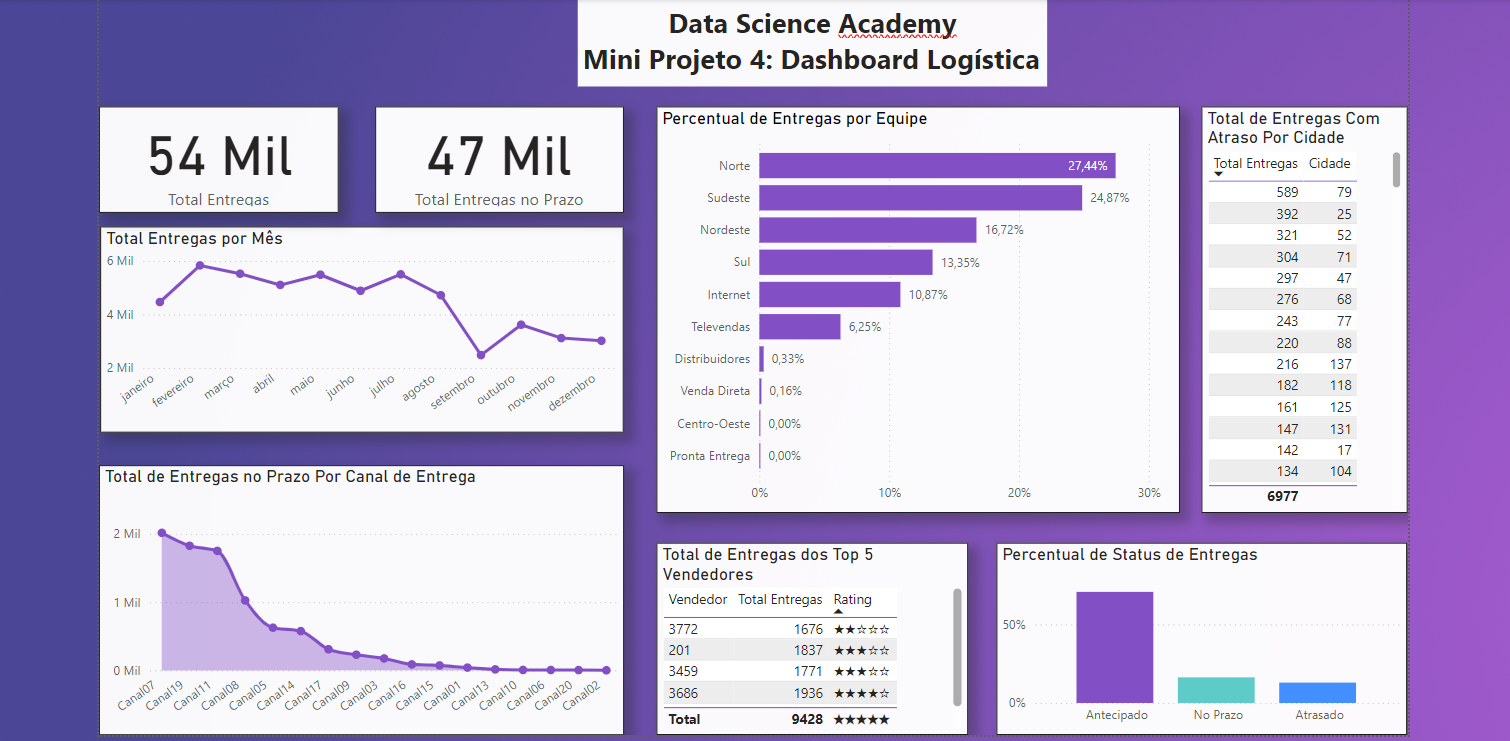

This screenshot's page, from the dashboard's own definition file:
{"tool":"powerbi","page":{"name":"Página 1","canvas":[1280,720],"ordinal":0},"visuals":[{"type":"stackedAreaChart","title":"Total de Entregas no Prazo Por Canal de Entrega","fields":{"Category":["Logistica.Canal_Entrega"],"Y":["Medidas (3).Pedidos"]},"box":[0,456.1,513.6,264.1],"z":0},{"type":"clusteredBarChart","title":"Percentual de Entregas por Equipe","fields":{"Category":["Logistica.Equipe_Entrega"],"Y":["Medidas (3).Total Entregas"]},"box":[545.4,105.2,512.4,397.4],"z":1000},{"type":"lineChart","fields":{"Category":["Logistica.Data_Entrega_Realizada.Variation.Hierarquia de datas.Mês","Logistica.Data_Entrega_Realizada.Variation.Hierarquia de datas.Ano"],"Y":["Medidas (3).Total Entregas"]},"box":[1.2,222.6,512.4,201.8],"z":2000},{"type":"tableEx","title":"Total de Entrega dos Top 5 Vendedores","fields":{"Values":["Logistica.ID_Vendedor","Medidas (3).Total Entregas","Medidas (3).Classificação por estrelas Total Entregas"]},"box":[545.9,531.7,305,188.2],"z":3000},{"type":"tableEx","title":"Total de Entregas Com Atraso Por Cidade","fields":{"Values":["Medidas (3).Total Entregas","Logistica.ID_Cidade"]},"box":[1078.5,105.2,201.8,397.4],"z":4000},{"type":"columnChart","title":"Percentual de Status de Entrega","fields":{"Y":["Medidas (3).Total Entregas"],"Category":["Logistica.Status_Entrega"]},"box":[878,531.7,402,188.2],"z":5000},{"type":"card","fields":{"Values":["Medidas (3).Total Entregas"]},"box":[0,105.2,234.8,103.9],"z":6000},{"type":"card","fields":{"Values":["Medidas (3).Total Entrega Prazos"]},"box":[270.2,105.2,243.3,103.9],"z":7000},{"type":"textbox","box":[469,0,459,85.5],"z":8000}]}

Visuals, with their boxes in screenshot pixels (x1, y1, x2, y2):
"Total de Entregas no Prazo Por Canal de Entrega" stackedAreaChart: (x1=102, y1=462, x2=622, y2=729)
"Percentual de Entregas por Equipe" clusteredBarChart: (x1=654, y1=107, x2=1173, y2=509)
lineChart - Logistica.Data_Entrega_Realizada.Variation.Hierarquia de datas.Mês x Logistica.Data_Entrega_Realizada.Variation.Hierarquia de datas.Ano: (x1=103, y1=225, x2=622, y2=430)
"Total de Entrega dos Top 5 Vendedores" tableEx: (x1=655, y1=538, x2=964, y2=729)
"Total de Entregas Com Atraso Por Cidade" tableEx: (x1=1194, y1=107, x2=1399, y2=509)
"Percentual de Status de Entrega" columnChart: (x1=991, y1=538, x2=1398, y2=729)
card - Medidas (3).Total Entregas: (x1=102, y1=107, x2=340, y2=212)
card - Medidas (3).Total Entrega Prazos: (x1=376, y1=107, x2=622, y2=212)
textbox: (x1=577, y1=0, x2=1042, y2=87)
